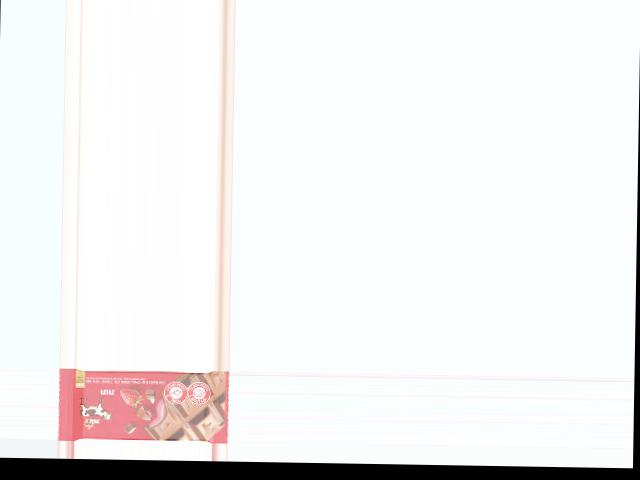chocolate: (56, 368, 229, 443)
